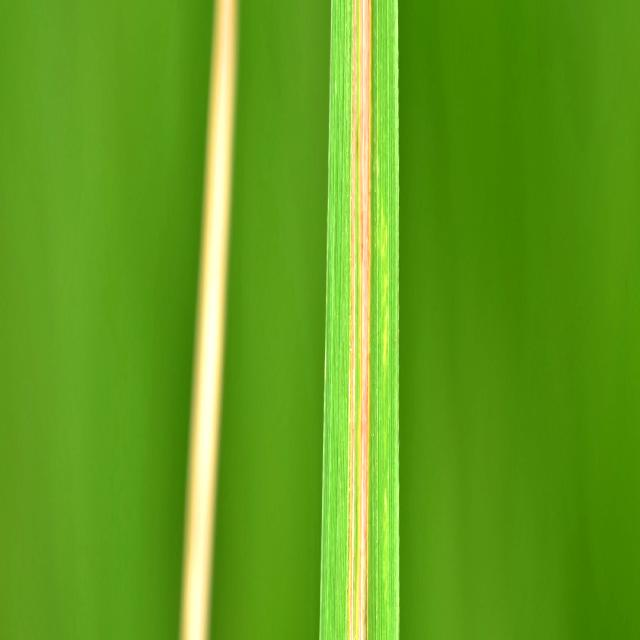BLB: (356, 2, 371, 640), (347, 0, 356, 640)
